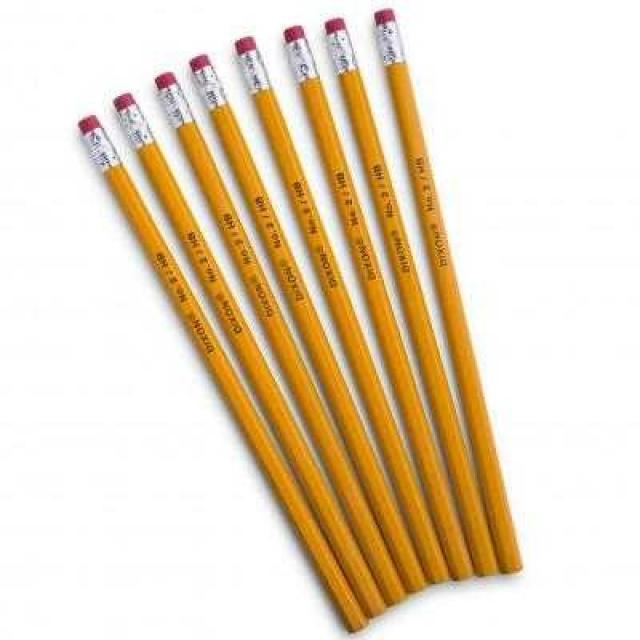pencil: (63, 101, 379, 638), (103, 79, 398, 630), (147, 58, 417, 616), (181, 40, 441, 610), (220, 23, 466, 599), (271, 10, 485, 594), (311, 11, 512, 602), (366, 1, 539, 586)
